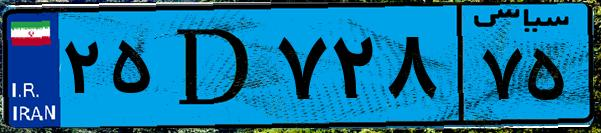2: (330, 28, 385, 110), (57, 26, 110, 100)
5: (525, 38, 570, 115), (110, 28, 158, 98)
7: (270, 28, 330, 110), (475, 38, 525, 113)
8: (385, 28, 445, 110)
D: (158, 12, 270, 120)
